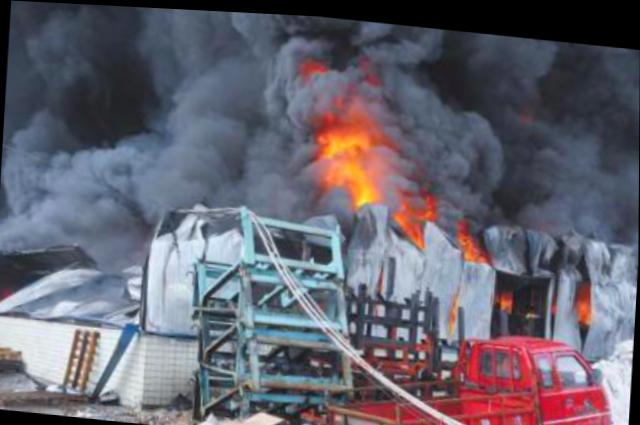fire: (318, 114, 373, 156), (338, 153, 381, 201), (394, 209, 429, 239), (577, 273, 595, 317), (461, 226, 490, 253), (502, 283, 517, 307)
